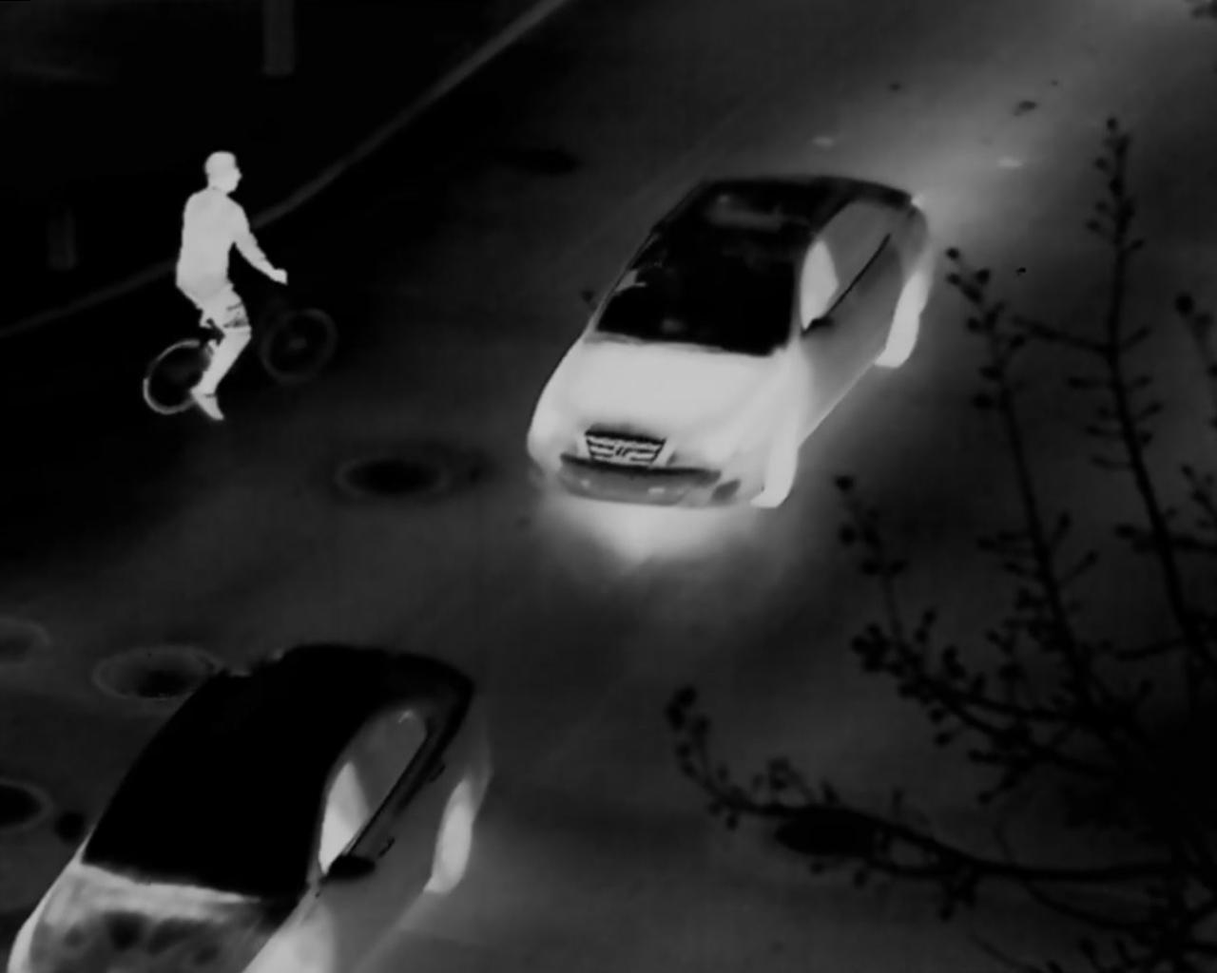person: (172, 148, 286, 424)
